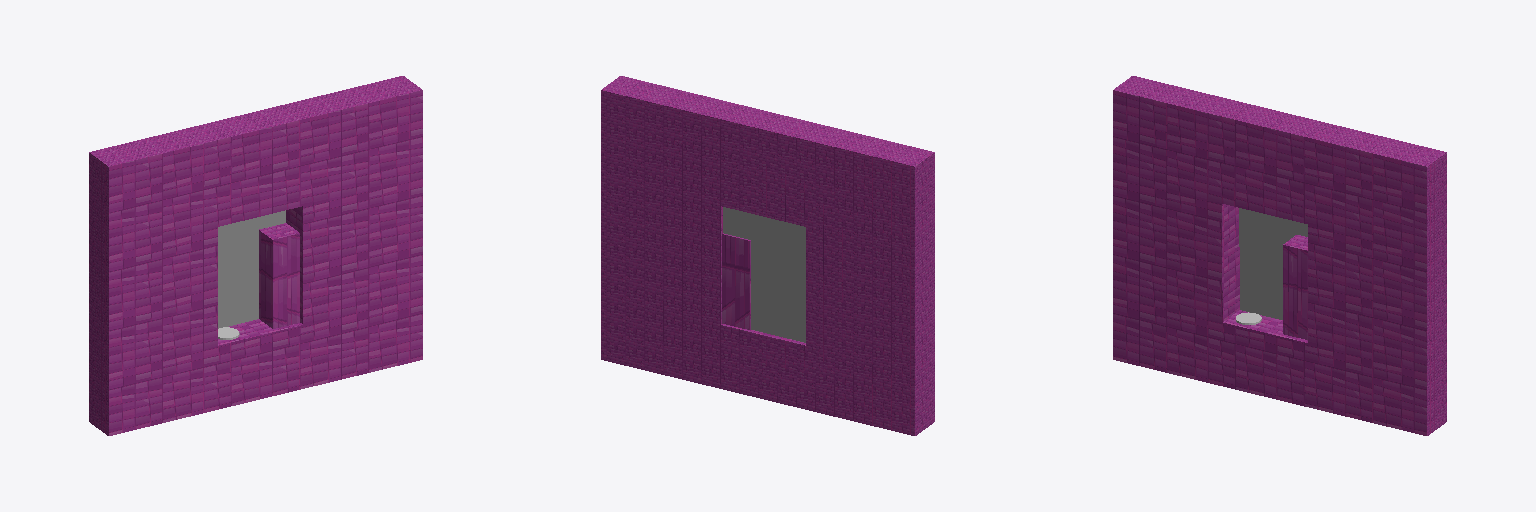
3 views of the same model, side by side, from view 1: azimuth 30°, elevation 25°; view 2: azimuth 150°, elevation 25°; view 3: azimuth 330°, elevation 25° (orthographic).
Visible parts, largest first — view 1: Cube, Plane, Cube.001; view 2: Cube, Plane, Cube.001; view 3: Cube, Plane, Cube.001.
Boxes of the visible parts, x1=… form: Cube: x1=89, y1=76, x2=422, y2=435; Plane: x1=218, y1=210, x2=285, y2=328; Cube.001: x1=259, y1=223, x2=299, y2=328; Cube: x1=601, y1=76, x2=934, y2=435; Plane: x1=723, y1=207, x2=805, y2=342; Cube.001: x1=722, y1=233, x2=750, y2=329; Cube: x1=1113, y1=76, x2=1446, y2=435; Plane: x1=1239, y1=208, x2=1307, y2=319; Cube.001: x1=1283, y1=235, x2=1307, y2=339.
Size of the model in its own units: 33.12 by 27.16 by 3.61.
3 materials, 1 textured.